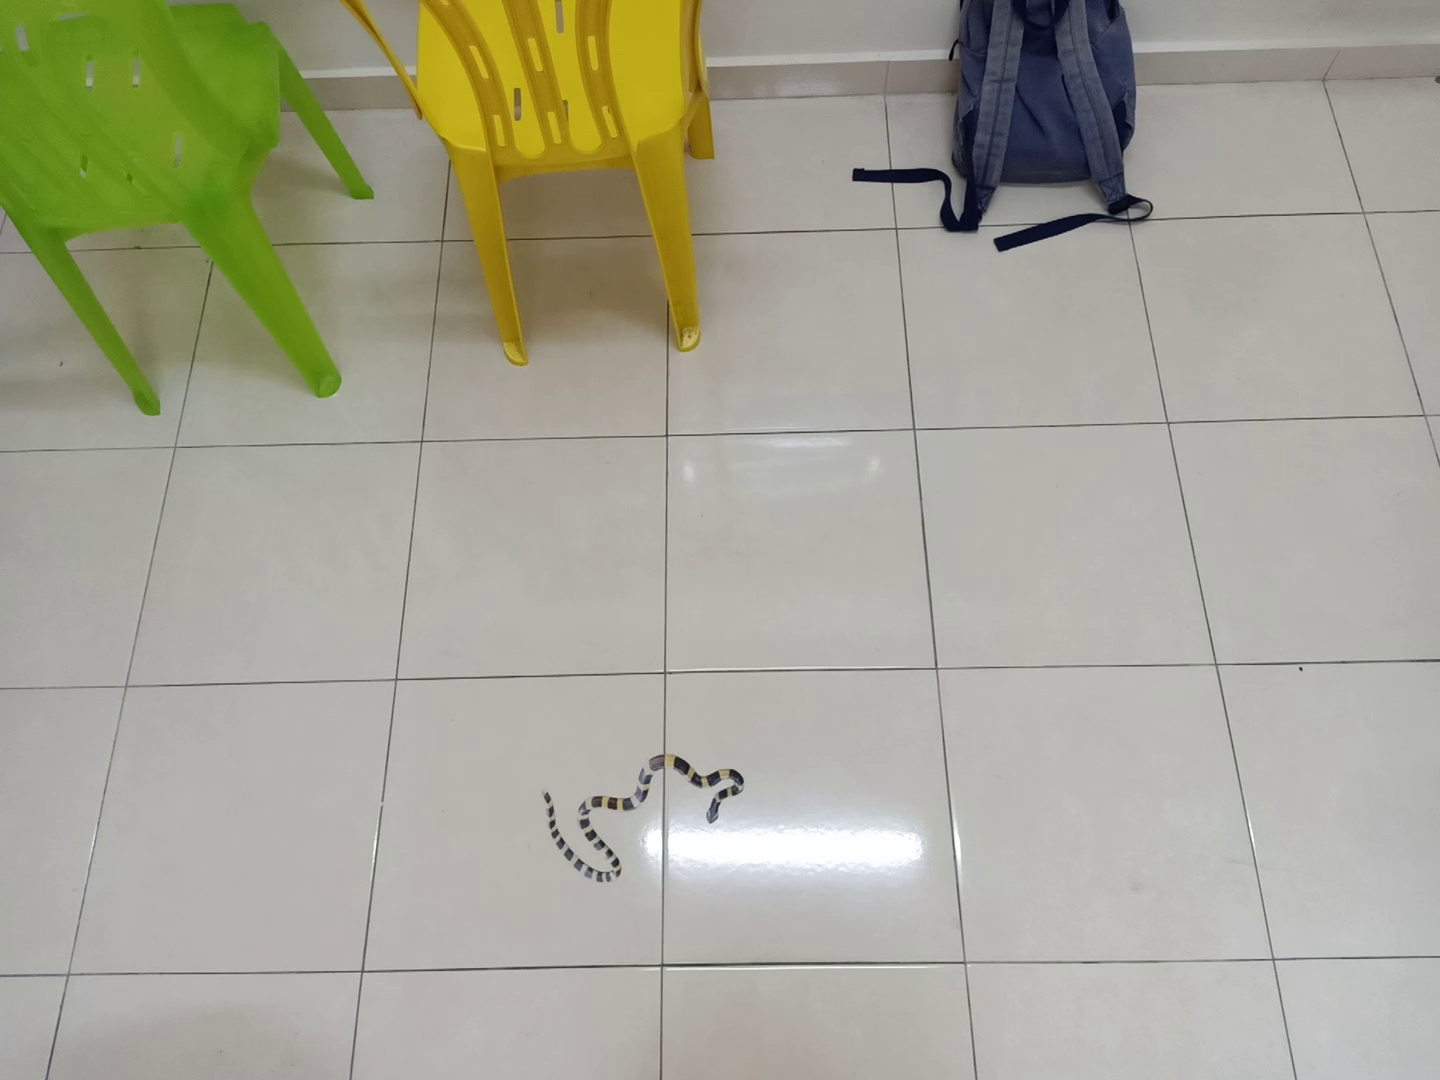snake: (537, 746, 749, 888)
